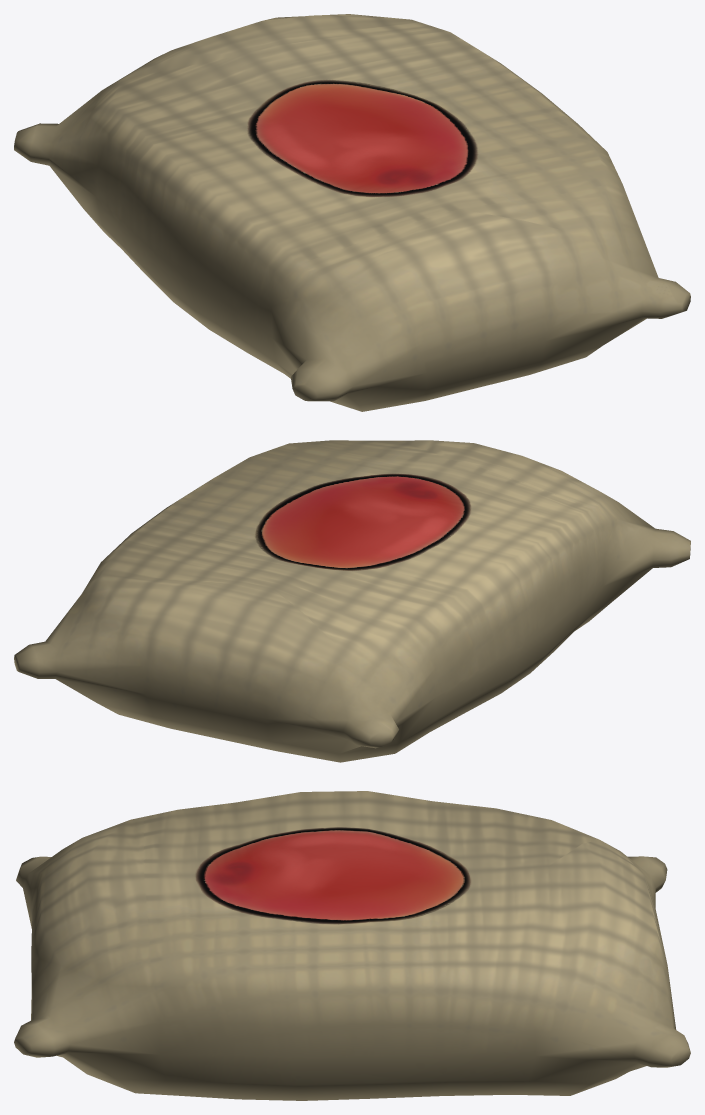
The model's file is Model_TexturaSacoQuadradoCafe_v1.fbx.
The picture shows the model from 3 angles, top to bottom: view 1: azimuth 30°, elevation 25°; view 2: azimuth 150°, elevation 25°; view 3: azimuth 270°, elevation 25°; orthographic projection. The views are drawn at different scales.
Parts seen in each view (by area): view 1: Plane.002; view 2: Plane.002; view 3: Plane.002.
Part boxes in pixels (x1=…): Plane.002: x1=14, y1=14, x2=690, y2=411; Plane.002: x1=14, y1=440, x2=690, y2=762; Plane.002: x1=14, y1=791, x2=690, y2=1100.
Size of the model in its own units: 246 by 86.33 by 337.
